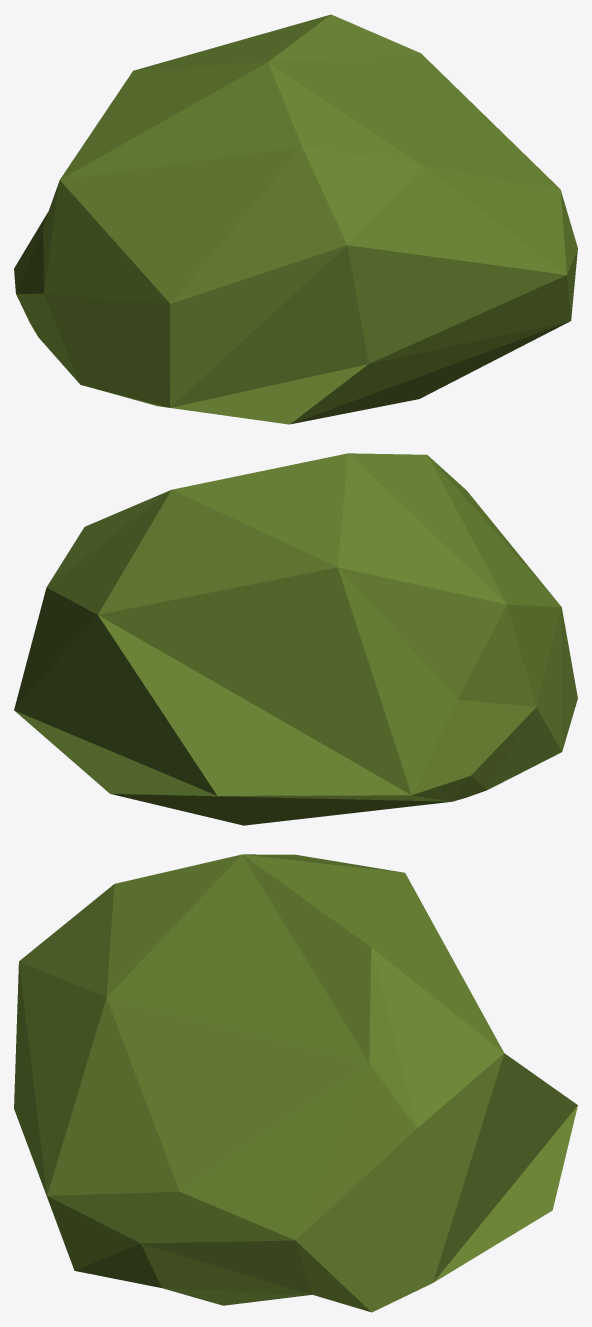
File: island_bush_2.fbx
The picture shows the model from 3 angles, top to bottom: view 1: azimuth 30°, elevation 25°; view 2: azimuth 150°, elevation 25°; view 3: azimuth 270°, elevation 25°; orthographic projection. The views are drawn at different scales.
Parts seen in each view (by area): view 1: Icosphere.005; view 2: Icosphere.005; view 3: Icosphere.005.
Boxes of the visible parts, x1,y1,x2,y2 form: Icosphere.005: [14, 14, 577, 424]; Icosphere.005: [14, 453, 577, 825]; Icosphere.005: [14, 854, 577, 1312].
Size of the model in its own units: 1.33 by 0.8408 by 1.18.
